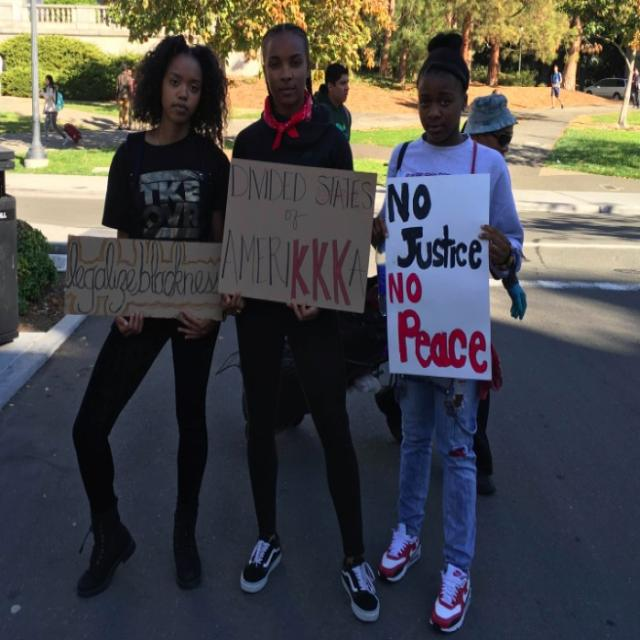body: (219, 19, 382, 623), (68, 31, 239, 602), (369, 30, 526, 634), (461, 94, 520, 493), (311, 61, 354, 146), (38, 73, 70, 147), (114, 62, 134, 131), (120, 65, 135, 131), (549, 63, 564, 110), (628, 64, 640, 109)
